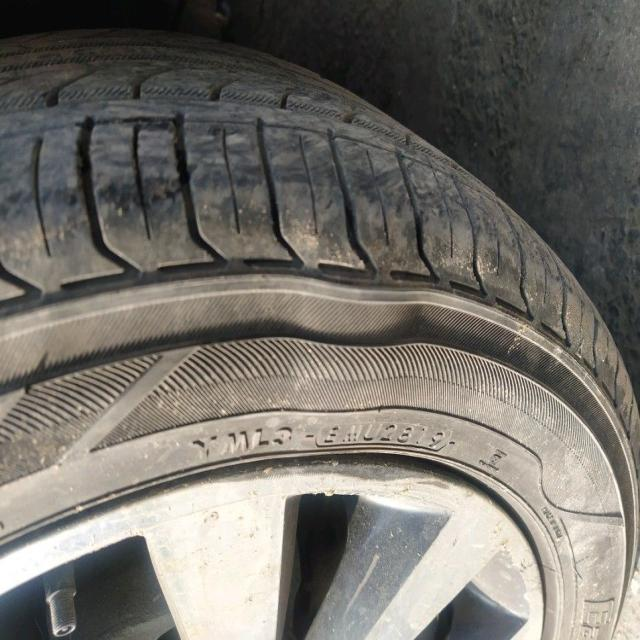Bulge: (283, 228, 404, 379)
